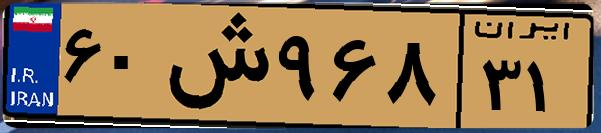0: (110, 28, 158, 98)
1: (525, 38, 570, 115)
3: (475, 38, 525, 113)
6: (330, 28, 385, 110), (57, 26, 110, 100)
8: (385, 28, 445, 110)
9: (270, 28, 330, 110)
ش: (158, 12, 270, 120)
